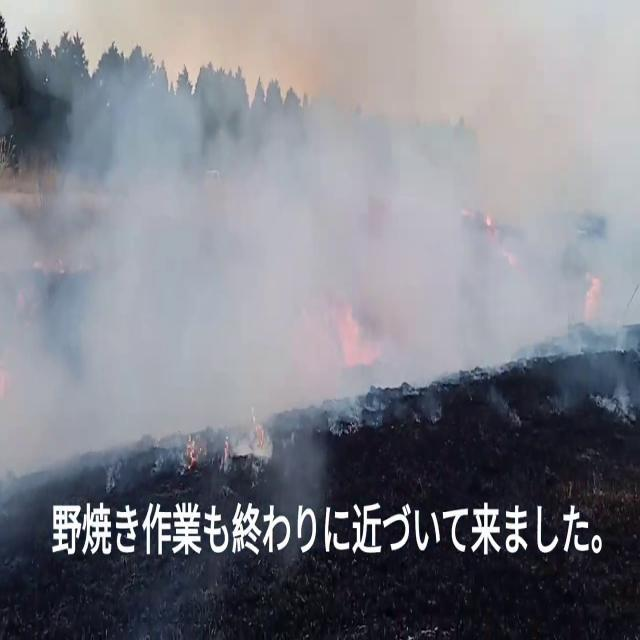Smoke: (1, 23, 626, 429)
